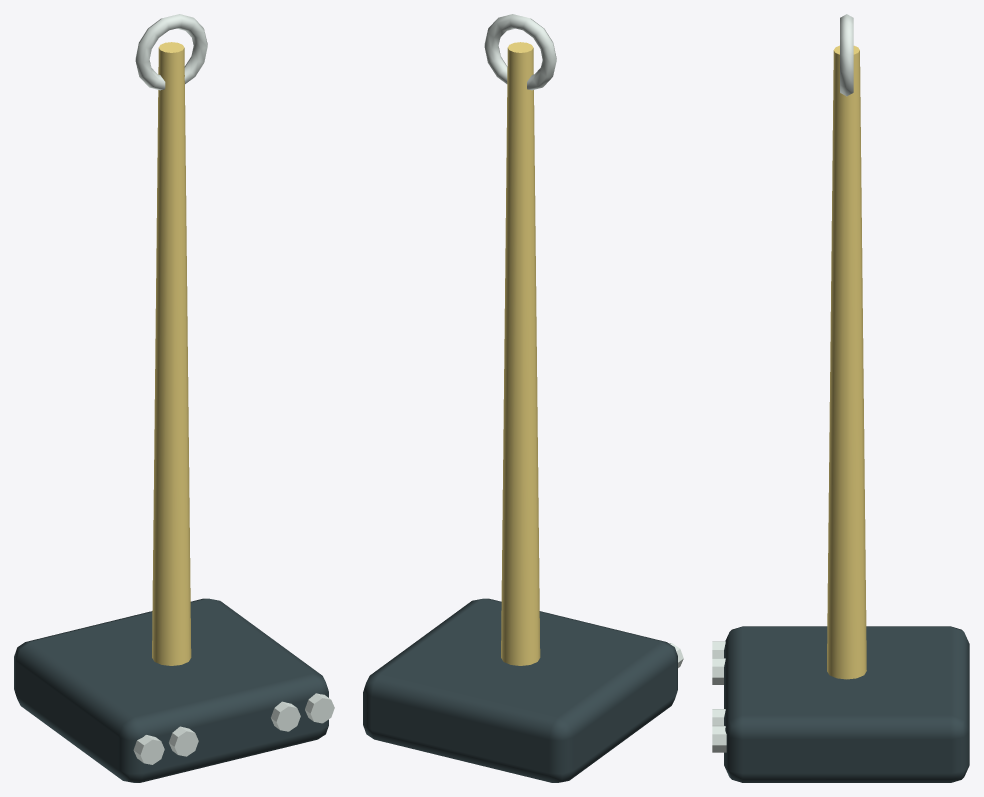
File: diving-and-underwater-salvage-weighted-guide-line-post-019bba68__28460.glb
3 views of the same model, side by side, from view 1: azimuth 30°, elevation 25°; view 2: azimuth 150°, elevation 25°; view 3: azimuth 270°, elevation 25° (orthographic).
Visible parts, largest first — view 1: weighted-guide-line-post-dark, weighted-guide-line-post-yellow, weighted-guide-line-post-pale; view 2: weighted-guide-line-post-dark, weighted-guide-line-post-yellow, weighted-guide-line-post-pale; view 3: weighted-guide-line-post-dark, weighted-guide-line-post-yellow, weighted-guide-line-post-pale.
Boxes of the visible parts, x1,y1,x2,y2 form: weighted-guide-line-post-dark: [14, 598, 328, 782]; weighted-guide-line-post-yellow: [152, 42, 191, 665]; weighted-guide-line-post-pale: [133, 14, 334, 764]; weighted-guide-line-post-dark: [363, 598, 677, 782]; weighted-guide-line-post-yellow: [501, 42, 540, 665]; weighted-guide-line-post-pale: [484, 14, 683, 667]; weighted-guide-line-post-dark: [724, 626, 969, 782]; weighted-guide-line-post-yellow: [827, 45, 866, 679]; weighted-guide-line-post-pale: [712, 14, 853, 752].
Bounding box in the file's own units: 0.43 × 1.39 × 0.4505.
